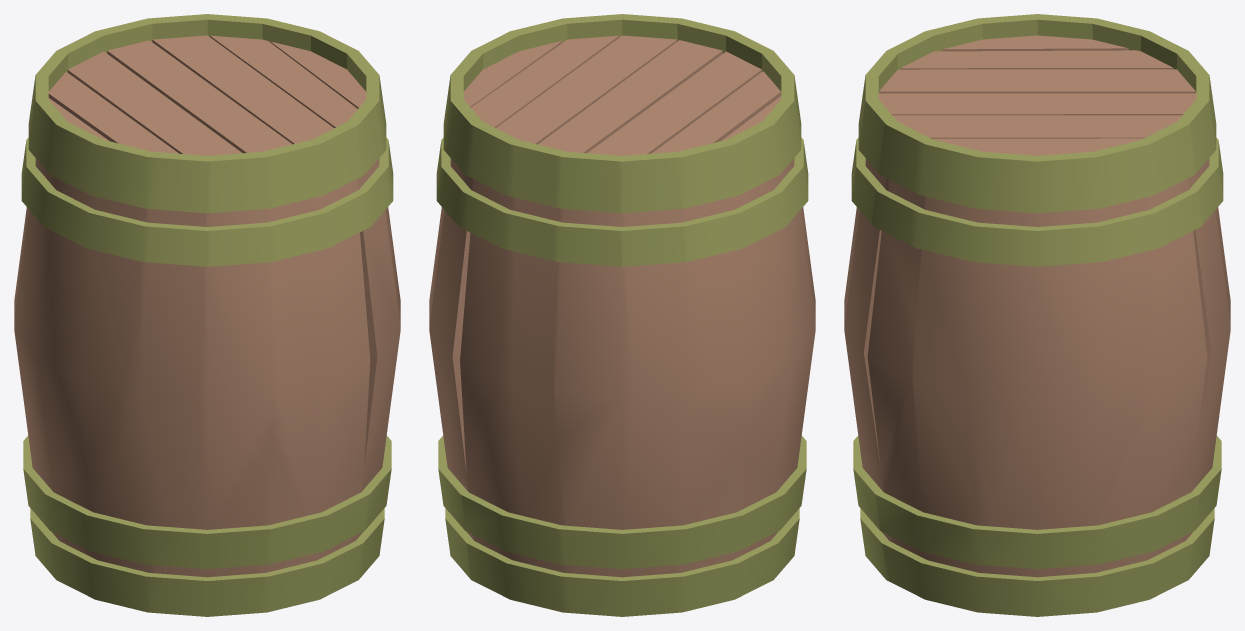
File: barrel.fbx
3 renders of one model, left to right at view 1: azimuth 30°, elevation 25°; view 2: azimuth 150°, elevation 25°; view 3: azimuth 270°, elevation 25°, orthographic.
Visible parts, largest first — view 1: group1; view 2: group1; view 3: group1.
Part boxes in pixels (x1,y1,x2,y2): group1: (14, 14, 400, 616); group1: (429, 14, 815, 616); group1: (844, 14, 1230, 616).
Size of the model in its own units: 3.31 by 4.24 by 3.26.
